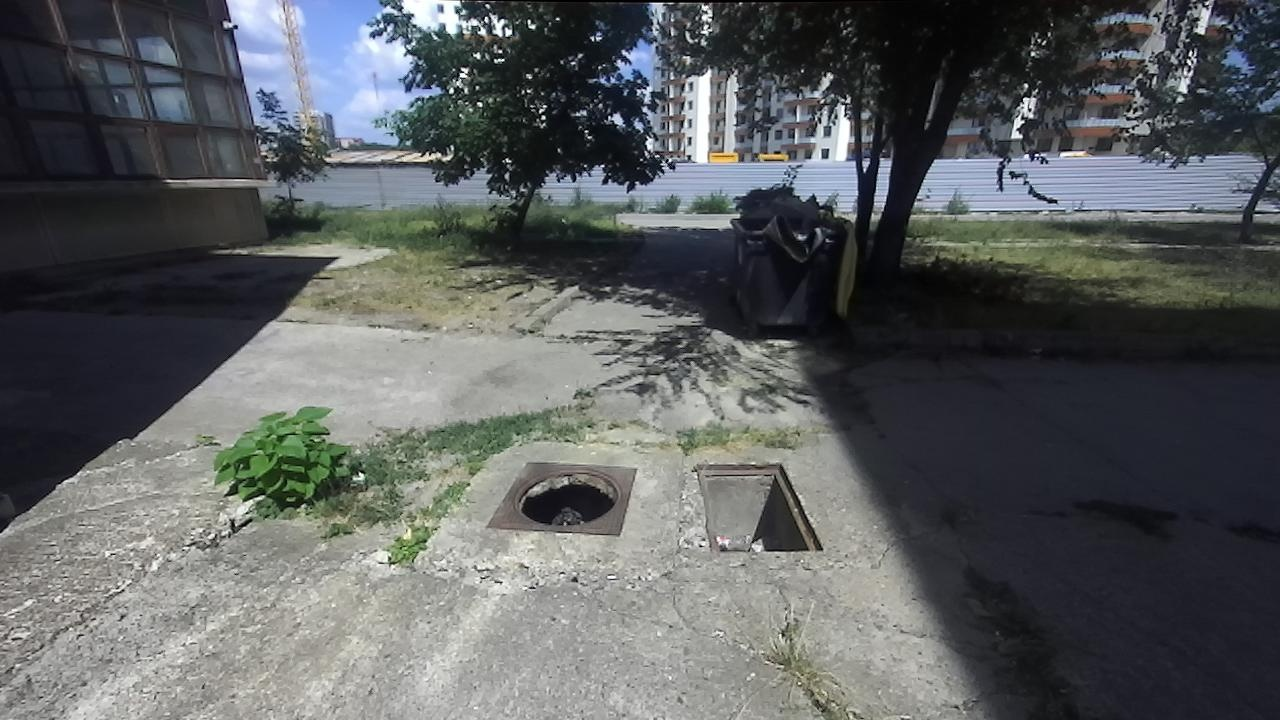drain: (689, 456, 824, 562), (508, 465, 624, 530)
